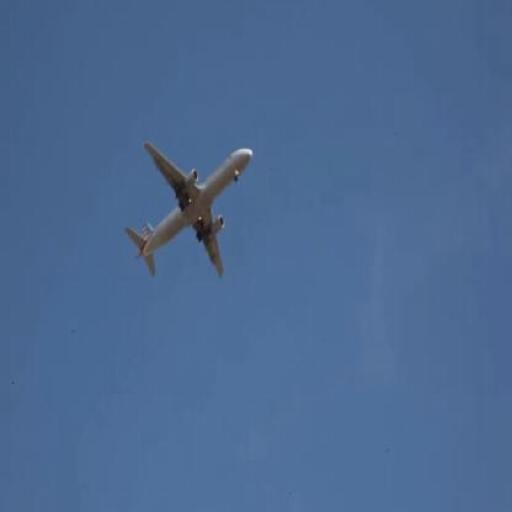aircraft: (126, 144, 254, 279)
